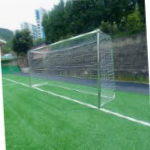goals: (23, 24, 119, 112)
